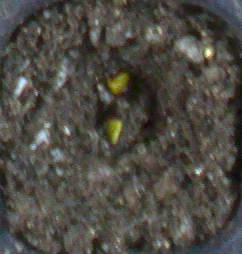chilli seed: (106, 71, 128, 94), (106, 119, 122, 145)
